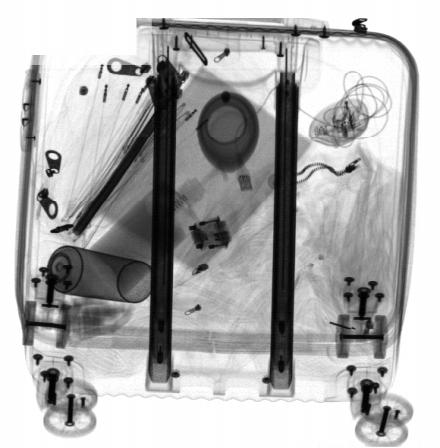Sprayer: (37, 241, 154, 304)
